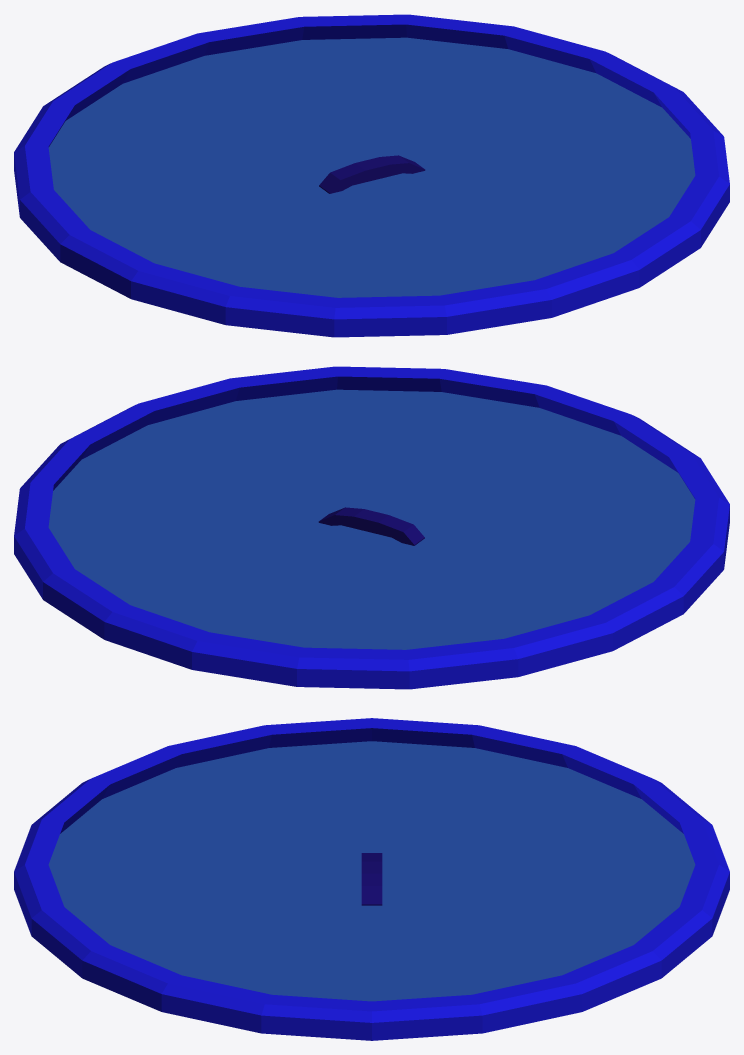
Rendered from tapa2.fbx.
3 renders of one model, top to bottom at view 1: azimuth 30°, elevation 25°; view 2: azimuth 150°, elevation 25°; view 3: azimuth 270°, elevation 25°, orthographic.
Parts seen in each view (by area): view 1: TAPA; view 2: TAPA; view 3: TAPA.
Part boxes in pixels (<box>): TAPA: <box>14,14,729,337</box>; TAPA: <box>14,366,729,689</box>; TAPA: <box>14,718,729,1040</box>.
Size of the model in its own units: 340 by 13.02 by 340.
1 material, 1 textured.
